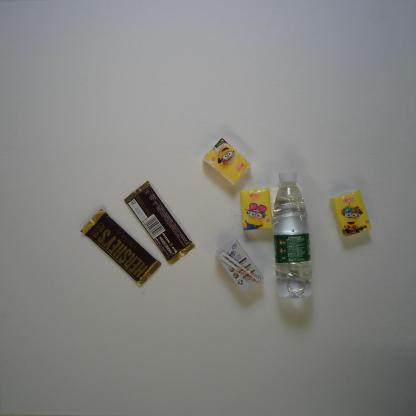Chocolate: (79, 207, 162, 288), (122, 180, 197, 266)
Drink: (272, 171, 314, 300)
Milk: (213, 239, 265, 294)
Tissue: (202, 136, 253, 186), (328, 188, 373, 238), (240, 188, 273, 231)
